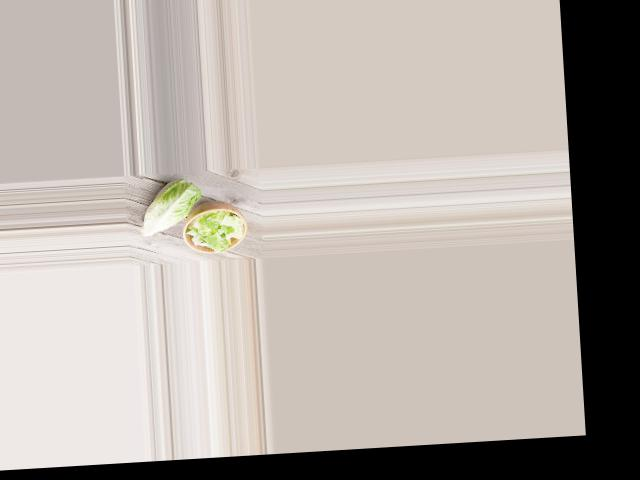lettuce: (139, 176, 203, 237)
